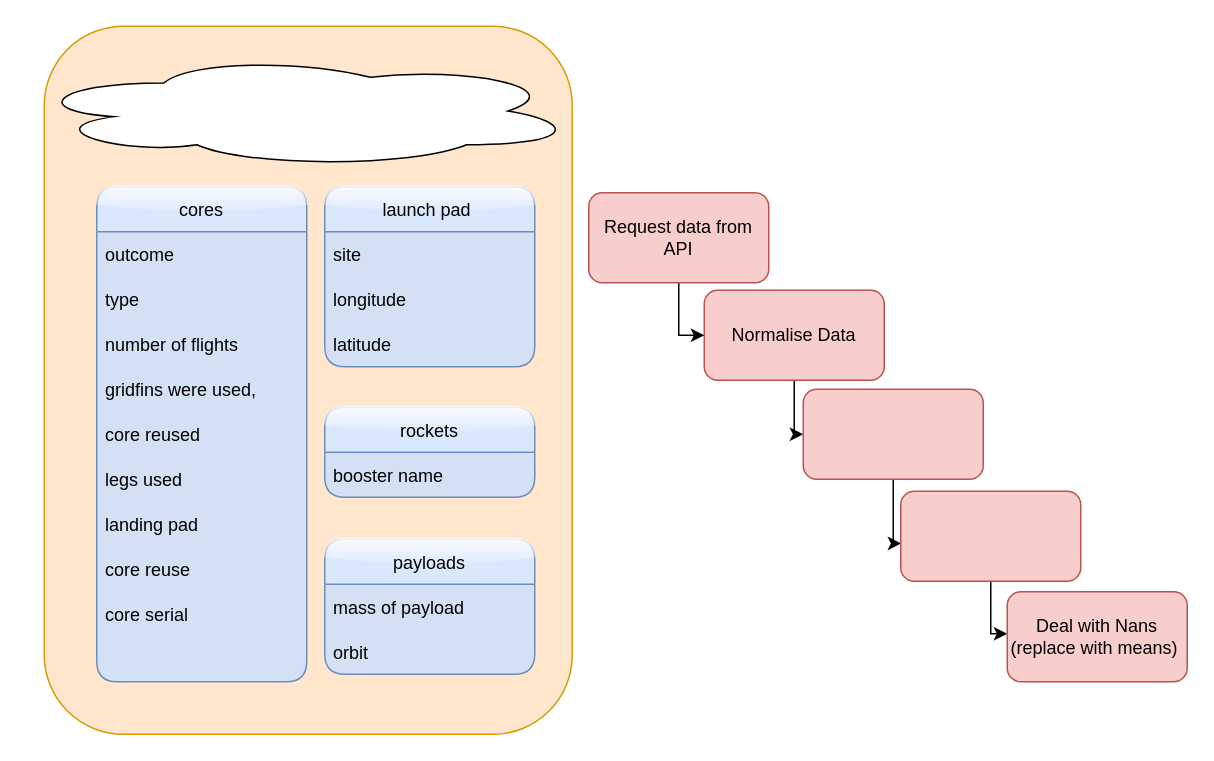
The diagram is 1214 pixels wide and 761 high, and some of its shapes have lost their labels. Each missing label, with the centre of its shape:
Create pandas data frame: (892,433)
Select Falcon 9 info: (990,535)
spacex_url= "https://api.spacexdata.com/v4/launches/past": (301,110)
